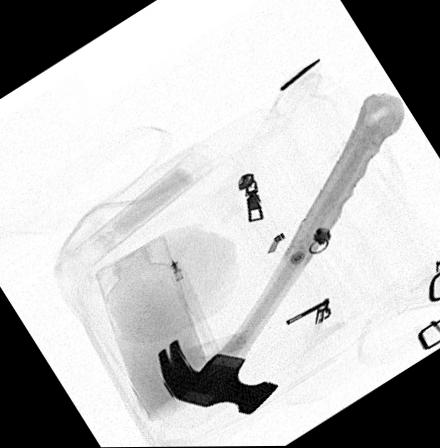Hammer: (157, 94, 404, 416)
